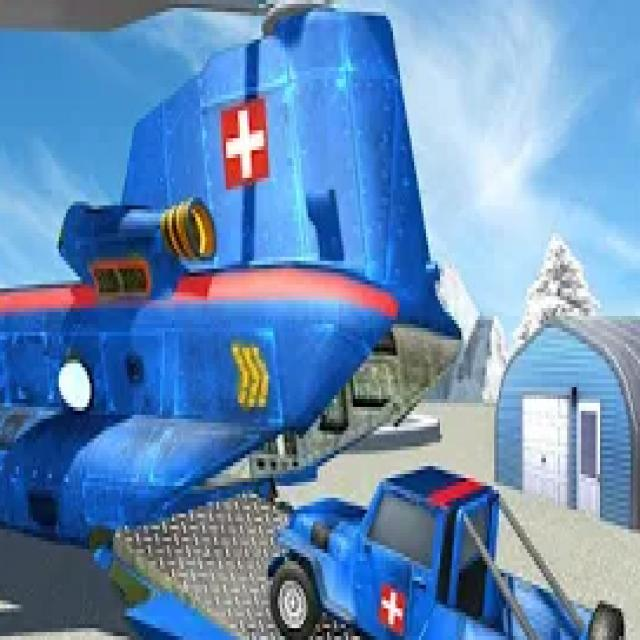helicopter: (1, 1, 439, 640)
